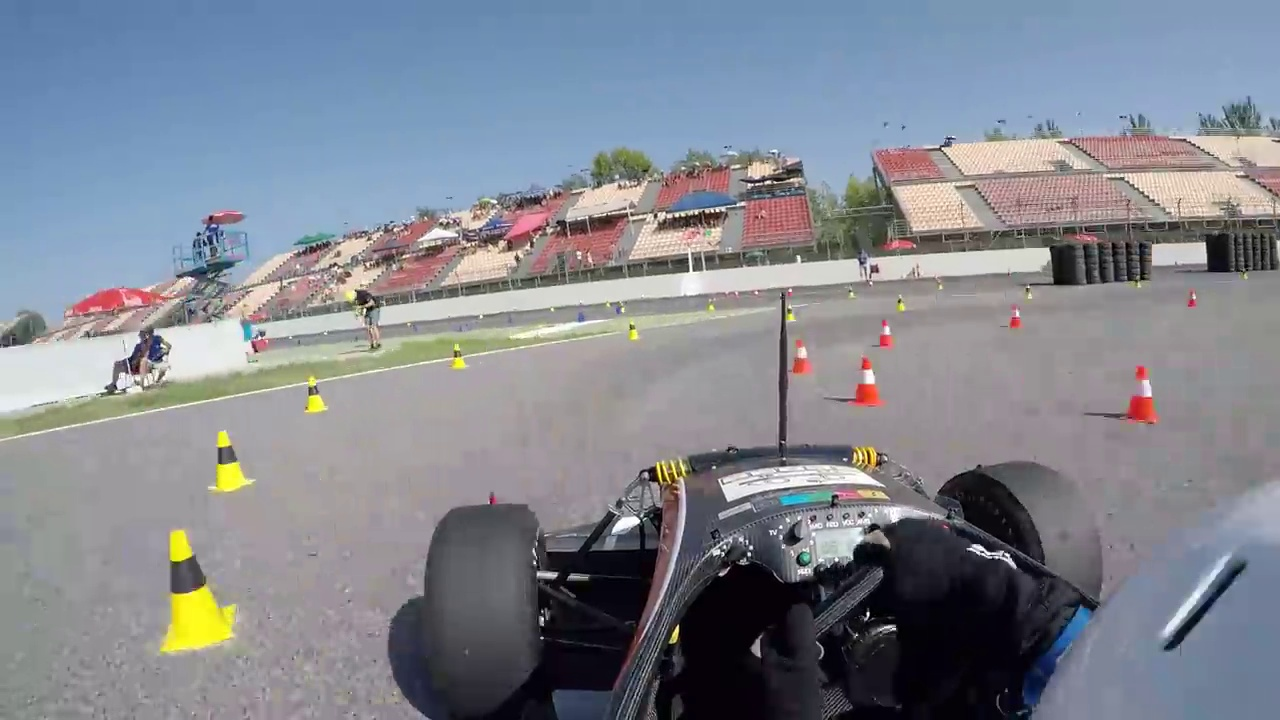Cone: (154, 529, 236, 654), (1120, 363, 1165, 423), (211, 429, 249, 491), (850, 354, 888, 408), (304, 375, 327, 414), (791, 338, 815, 373)
